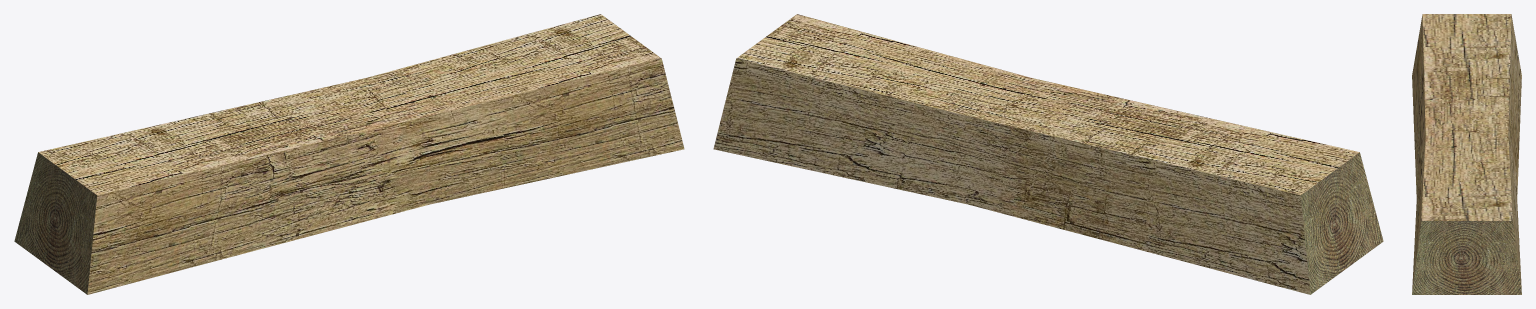
File: CRAFT_DREWNO_BRZOZA.glb
3 views of the same model, side by side, from view 1: azimuth 30°, elevation 25°; view 2: azimuth 150°, elevation 25°; view 3: azimuth 270°, elevation 25° (orthographic). The views are drawn at different scales.
Parts seen in each view (by area): view 1: CRAFT_DREWNO_BRZOZA; view 2: CRAFT_DREWNO_BRZOZA; view 3: CRAFT_DREWNO_BRZOZA.
Boxes of the visible parts, box(x1,y1,x2,y2) form: CRAFT_DREWNO_BRZOZA: box(14, 14, 684, 294); CRAFT_DREWNO_BRZOZA: box(713, 14, 1383, 294); CRAFT_DREWNO_BRZOZA: box(1412, 14, 1521, 294).
Bounding box in the file's own units: 0.5789 × 0.0837 × 0.1227.
2 materials, 2 textured.
